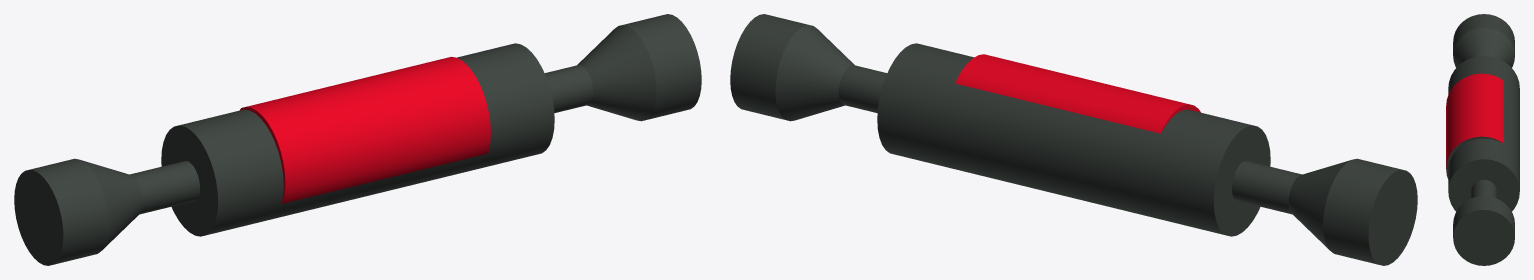
File: Fusible.fbx
The picture shows the model from 3 angles, left to right: view 1: azimuth 30°, elevation 25°; view 2: azimuth 150°, elevation 25°; view 3: azimuth 270°, elevation 25°; orthographic projection. The views are drawn at different scales.
Parts seen in each view (by area): view 1: Cylinder; view 2: Cylinder; view 3: Cylinder.
Part boxes in pixels (bbox=[...]): Cylinder: bbox=[14, 14, 701, 265]; Cylinder: bbox=[730, 14, 1417, 265]; Cylinder: bbox=[1446, 14, 1519, 265].
Bounding box in the file's own units: 86.05 × 13.79 × 13.7.
